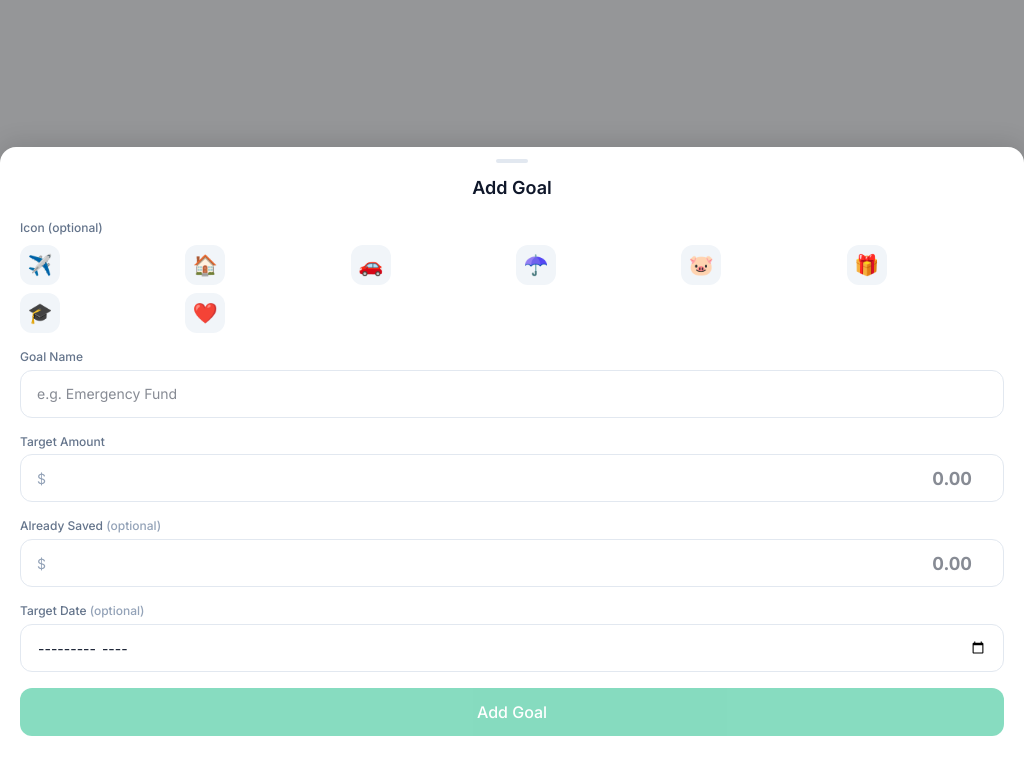
Test case: AddGoalSheet › shows target amount error when blurring with 0
The image size is (1024, 768).
Step 1. Type "0" into the number field with test id "target-amount-input" → [526, 478], box [50,455,1003,501]
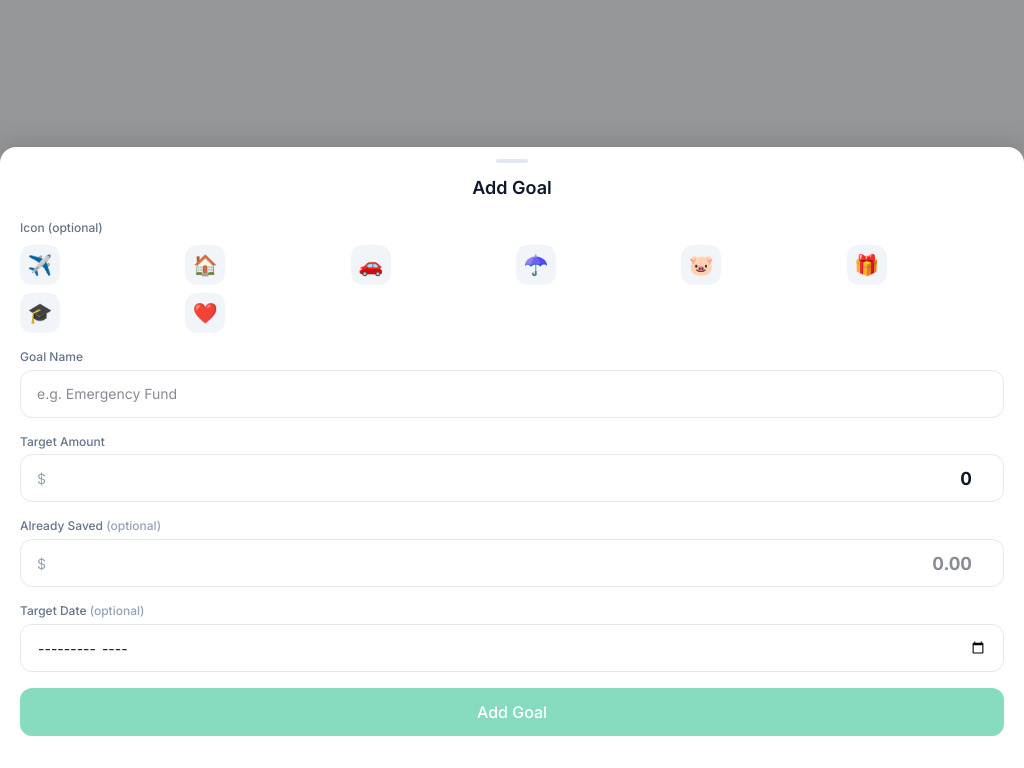
Step 2. Leave the number field with test id "target-amount-input", box [50,455,1003,501]
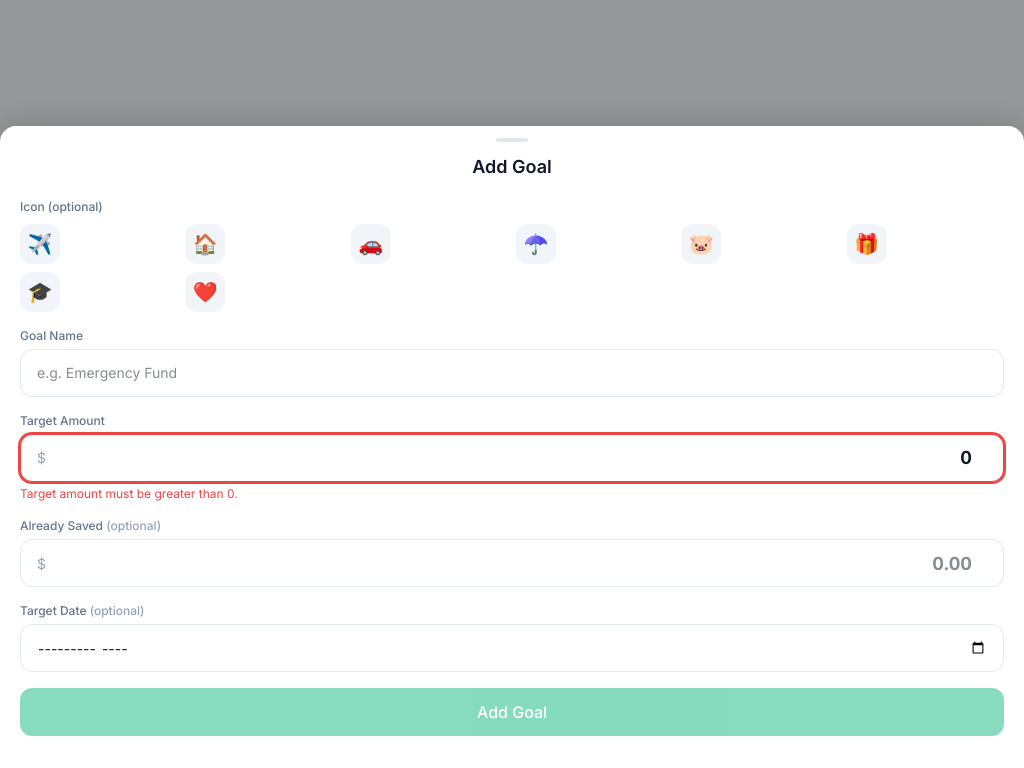
expect the text "Target amount must be greater than 0." is shown: met, box [20,486,238,501]
